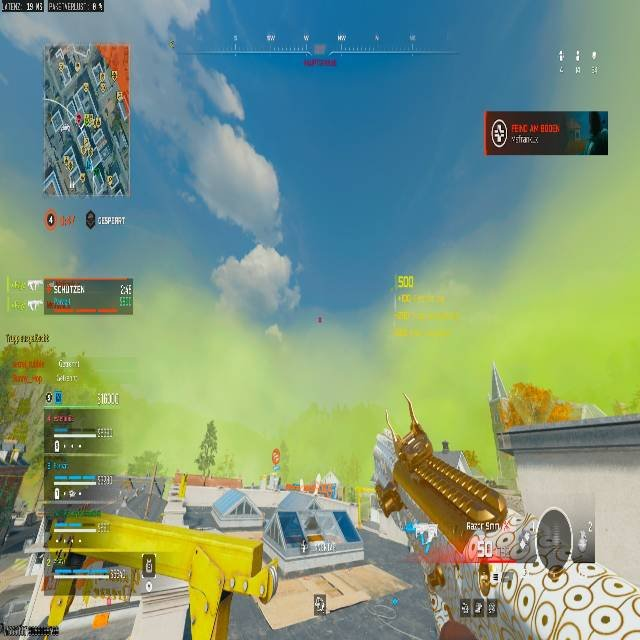player: (211, 244, 318, 337)
